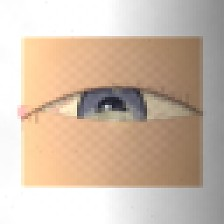corneal_ulcer: (80, 94, 146, 147)
